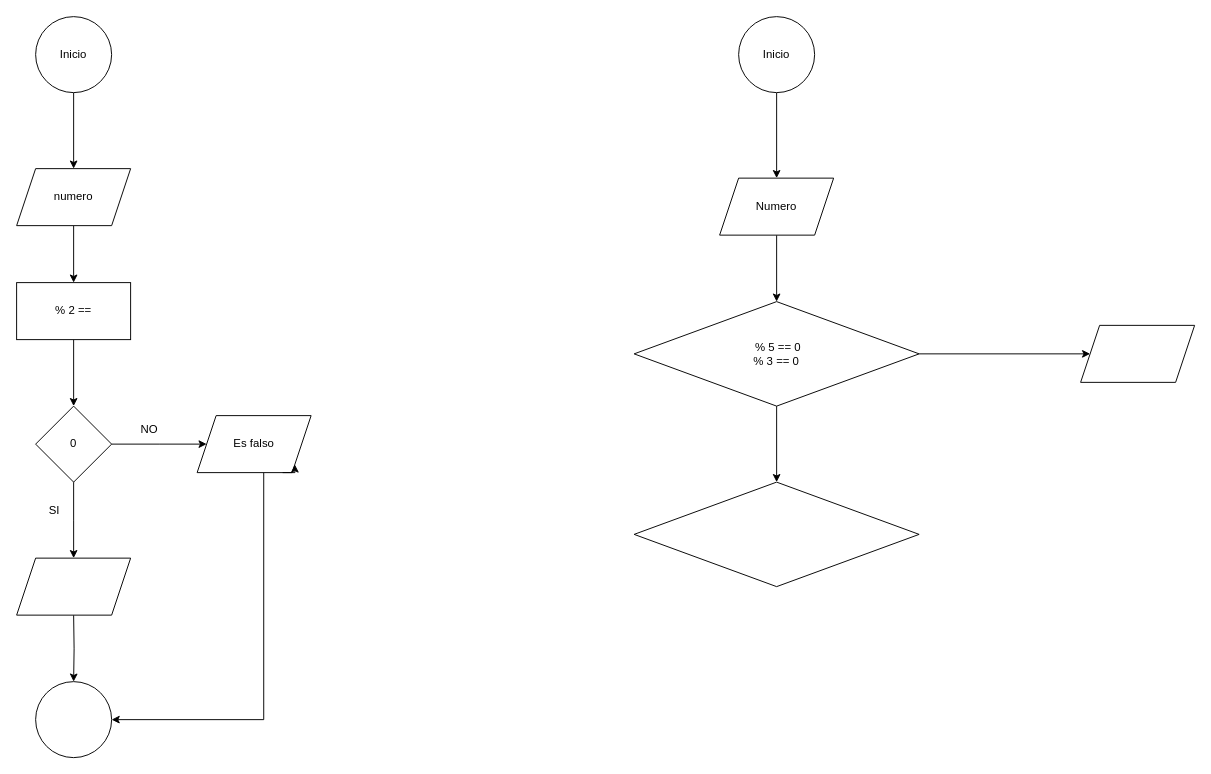
The diagram is 1211 pixels wide and 774 high, and some of its shapes have lost their labels. The centre of each missing label's shape, as x and y in pixels:
"6 y 7" goes at (x=776, y=534).
"Es par" goes at (x=73, y=586).
"Fin" goes at (x=73, y=719).
